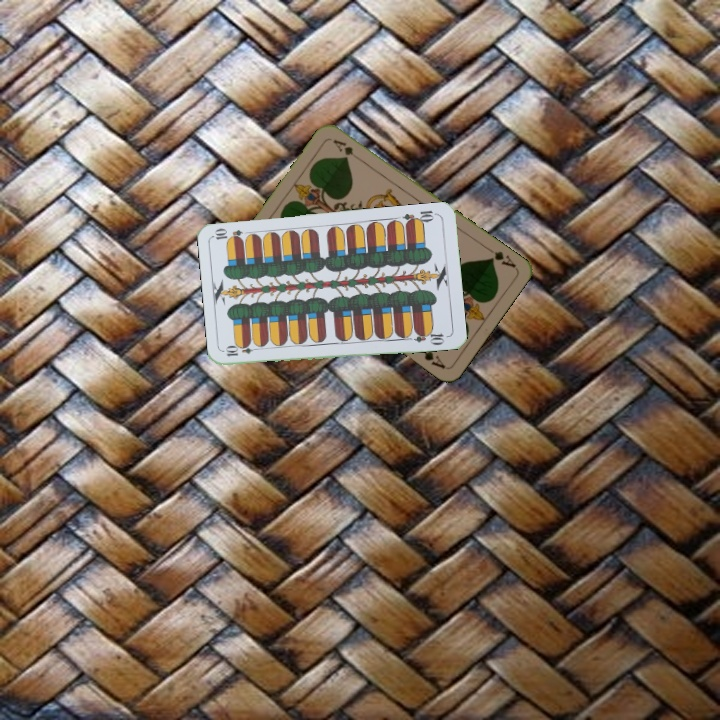E10: (399, 206, 440, 228), (222, 342, 262, 359)
GA: (482, 244, 518, 270)
